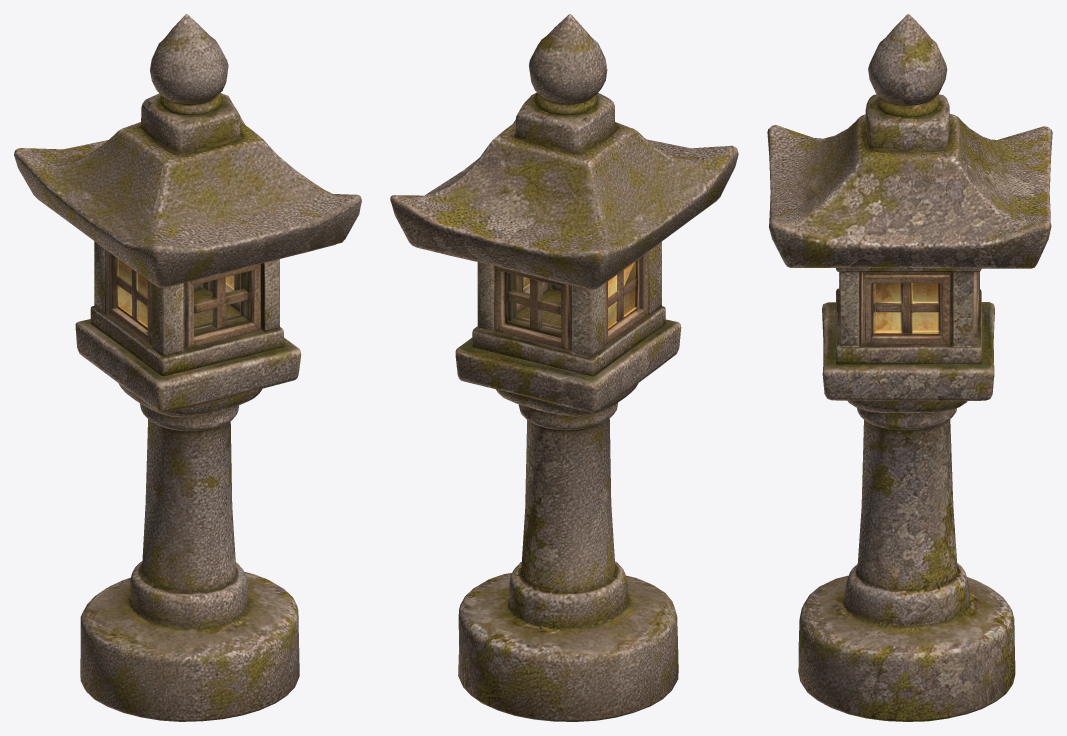
File: stone_lantern.glb
The picture shows the model from 3 angles, left to right: view 1: azimuth 30°, elevation 25°; view 2: azimuth 150°, elevation 25°; view 3: azimuth 270°, elevation 25°; orthographic projection.
Visible parts, largest first — view 1: tripo_node_d17aa2ac-2a2d-4d18-8721-18ac1474e960; view 2: tripo_node_d17aa2ac-2a2d-4d18-8721-18ac1474e960; view 3: tripo_node_d17aa2ac-2a2d-4d18-8721-18ac1474e960.
Part boxes in pixels (x1,y1,x2,y2): tripo_node_d17aa2ac-2a2d-4d18-8721-18ac1474e960: [14, 14, 361, 721]; tripo_node_d17aa2ac-2a2d-4d18-8721-18ac1474e960: [390, 14, 738, 721]; tripo_node_d17aa2ac-2a2d-4d18-8721-18ac1474e960: [767, 14, 1052, 721].
Bounding box in the file's own units: 0.3374 × 0.9995 × 0.3901.
1 material, 1 textured.
